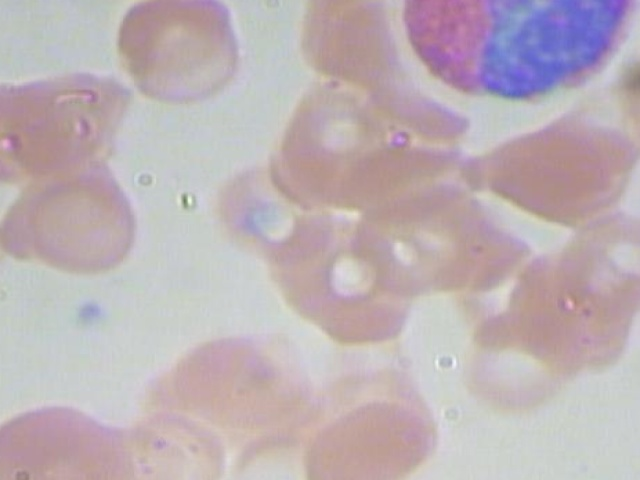Platelets: (58, 293, 115, 336), (246, 474, 303, 480)
RBC: (459, 91, 640, 227), (135, 306, 313, 440), (264, 216, 441, 350), (263, 73, 421, 209), (442, 295, 598, 431), (14, 160, 166, 291), (0, 52, 150, 182), (102, 0, 255, 115), (206, 157, 342, 268), (294, 388, 447, 480), (95, 401, 248, 480), (543, 209, 640, 324), (0, 396, 128, 480), (0, 63, 67, 194), (0, 180, 14, 316)
WBC: (391, 0, 638, 102)
